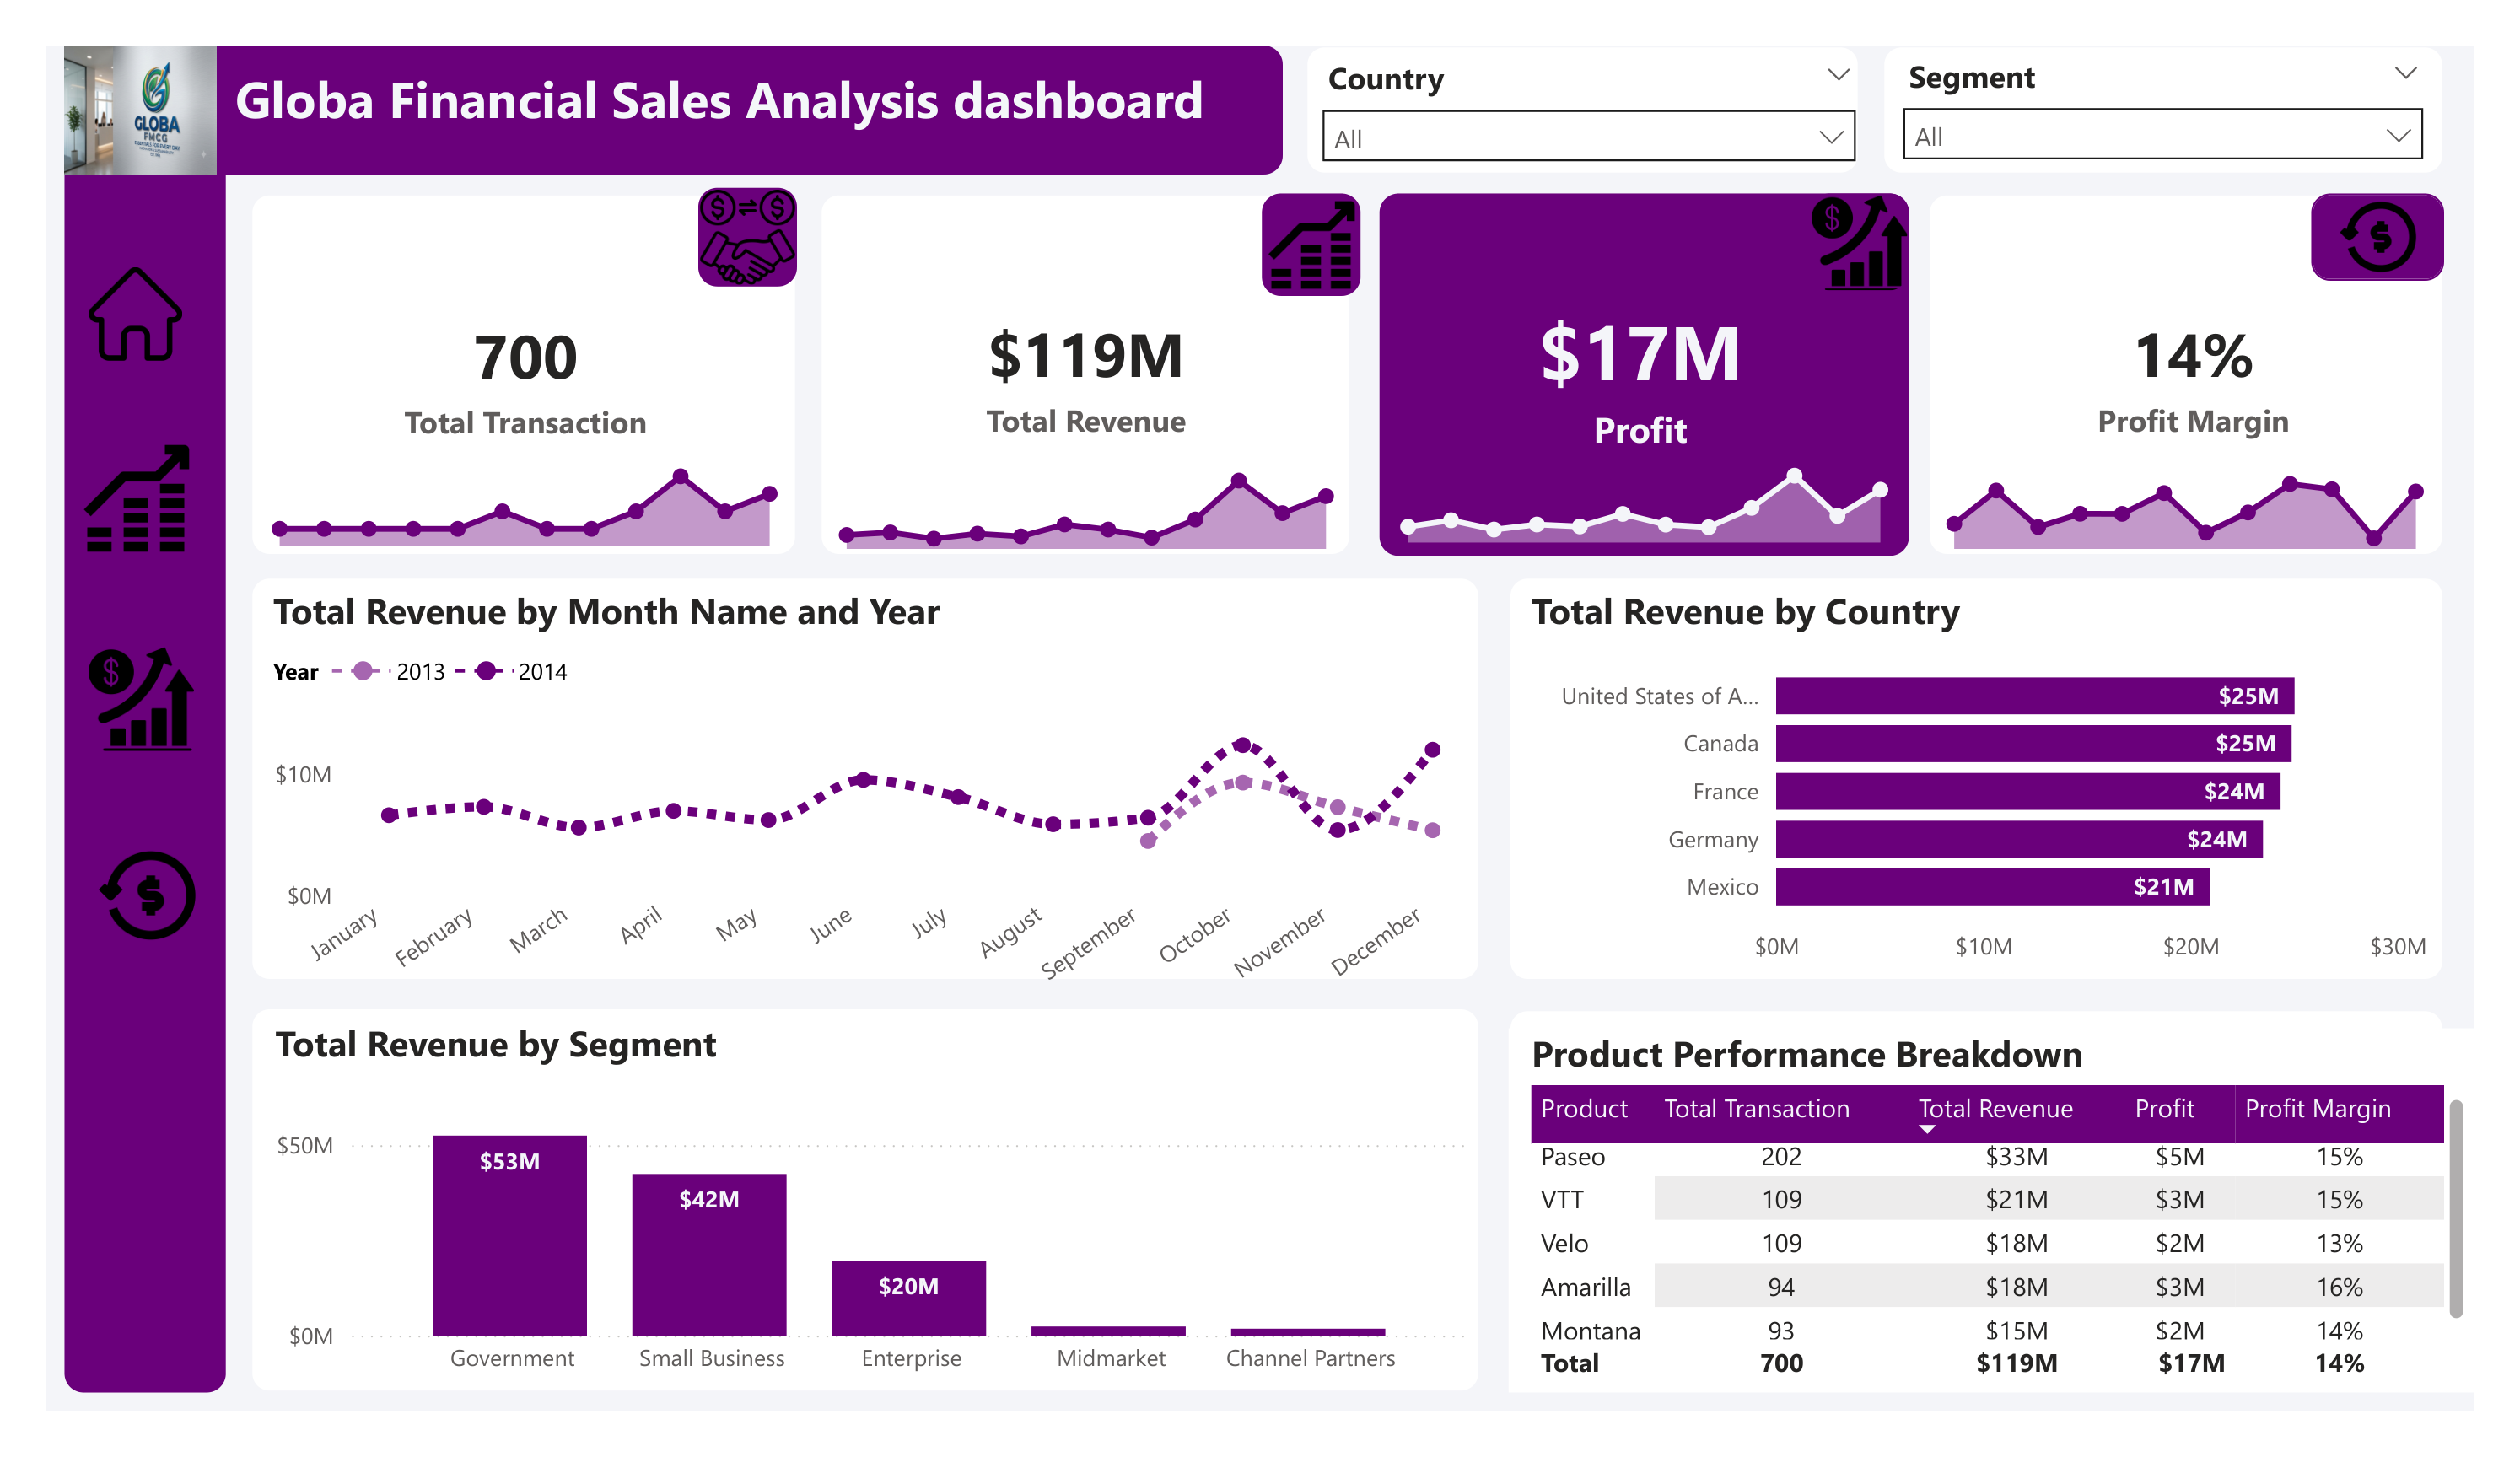

What the dashboard file says about the page in this screenshot:
{"tool":"powerbi","page":{"name":"Page 1","canvas":[1280,720],"ordinal":0},"visuals":[{"type":"textbox","box":[10.1,0,641.9,68],"z":0},{"type":"textbox","box":[10.1,0,85.3,709.9],"z":1000},{"type":"textbox","box":[108.4,78.1,287.7,190.8],"z":2000},{"type":"textbox","box":[702.7,78.1,279,190.8],"z":3000},{"type":"textbox","box":[991.8,78.1,271.8,190.8],"z":4000},{"type":"textbox","box":[407.7,78.1,280.5,190.8],"z":5000},{"type":"textbox","box":[663.6,0,292,68],"z":6000},{"type":"textbox","box":[968.3,0,295.3,67.6],"z":7000},{"type":"textbox","box":[108.4,280.5,647.7,212.5],"z":8000},{"type":"textbox","box":[770.6,280.5,493,212.5],"z":9000},{"type":"textbox","box":[108.4,507.5,647.7,202.4],"z":10000},{"type":"textbox","box":[770.9,507.7,493.1,202],"z":11000},{"type":"image","box":[10.1,0,79.5,68],"z":12000},{"type":"image","box":[23.1,109.9,49.2,63.6],"z":13000},{"type":"image","box":[15.9,208.2,62.2,60.7],"z":14000},{"type":"image","box":[23.1,312.3,54.9,63.6],"z":15000},{"type":"image","box":[24.6,416.4,56.4,63.6],"z":16000},{"type":"image","box":[344.1,75.2,52,52],"z":17000},{"type":"image","box":[640.7,78.4,51.8,53.2],"z":18000},{"type":"image","box":[929.6,78.1,52,52],"z":19000},{"type":"image","box":[1194.2,78.1,69.4,46.3],"z":20000},{"type":"slicer","fields":{"Values":["Dim_Location.Country"]},"box":[663.2,1.3,300.6,67.1],"z":20002},{"type":"slicer","fields":{"Values":["Dim_Segment.Segment"]},"box":[969,0,293.7,67.8],"z":20003},{"type":"card","fields":{"Values":["_Calculations.Total Transaction"]},"box":[109,78.4,288.4,191.4],"z":20004},{"type":"card","fields":{"Values":["_Calculations.Total Revenue"]},"box":[408.1,75.8,280.5,194.1],"z":20006},{"type":"card","fields":{"Values":["_Calculations.Profit"]},"box":[700.5,75.8,280.5,194.1],"z":20007},{"type":"card","fields":{"Values":["_Calculations.Profit Margin"]},"box":[991.6,75.8,280.5,194.1],"z":20008},{"type":"lineChart","fields":{"Y":["_Calculations.Total Revenue"],"Category":["Dim_Calender.Month Name"],"Series":["Dim_Calender.Year"]},"box":[109,280.5,647.3,212.7],"z":20009},{"type":"clusteredBarChart","fields":{"Y":["_Calculations.Total Revenue"],"Category":["Dim_Country.Country"]},"box":[770.9,280.5,491.8,212.7],"z":20010},{"type":"columnChart","fields":{"Category":["Dim_Segment.Segment"],"Y":["_Calculations.Total Revenue"]},"box":[109,507.7,647.3,202],"z":20011},{"type":"pivotTable","title":"Product Performance Breakdown","fields":{"Rows":["Dim_Product.Product"],"Values":["_Calculations.Total Transaction","_Calculations.Total Revenue","_Calculations.Profit","_Calculations.Profit Margin"]},"box":[770.6,517.6,508.9,192.3],"z":20012},{"type":"lineChart","fields":{"Y":["_Calculations.Total Transaction"],"Category":["Dim_Calender.Month Name"]},"box":[109,208.7,287.1,61.1],"z":20013},{"type":"lineChart","fields":{"Category":["Dim_Calender.Month Name"],"Y":["_Calculations.Total Revenue"]},"box":[408.1,208.7,280.5,61.1],"z":20014},{"type":"lineChart","fields":{"Category":["Dim_Calender.Month Name"],"Y":["_Calculations.Profit"]},"box":[704.5,207.4,276.5,61.1],"z":20015},{"type":"lineChart","fields":{"Category":["Dim_Calender.Month Name"],"Y":["_Calculations.Profit Margin"]},"box":[991.6,208.7,271.2,61.1],"z":20016}]}

Visuals, with their boxes on the page's 1280x720 design canvas (x1, y1, x2, y2). These are canvas units, not pixel positions in the 2520x1457 screenshot, which may show the page scaled, cropped or inside an application window:
textbox: select_region(10, 0, 652, 68)
textbox: select_region(10, 0, 95, 710)
textbox: select_region(108, 78, 396, 269)
textbox: select_region(703, 78, 982, 269)
textbox: select_region(992, 78, 1264, 269)
textbox: select_region(408, 78, 688, 269)
textbox: select_region(664, 0, 956, 68)
textbox: select_region(968, 0, 1264, 68)
textbox: select_region(108, 280, 756, 493)
textbox: select_region(771, 280, 1264, 493)
textbox: select_region(108, 508, 756, 710)
textbox: select_region(771, 508, 1264, 710)
image: select_region(10, 0, 90, 68)
image: select_region(23, 110, 72, 174)
image: select_region(16, 208, 78, 269)
image: select_region(23, 312, 78, 376)
image: select_region(25, 416, 81, 480)
image: select_region(344, 75, 396, 127)
image: select_region(641, 78, 692, 132)
image: select_region(930, 78, 982, 130)
image: select_region(1194, 78, 1264, 124)
slicer - Dim_Location.Country: select_region(663, 1, 964, 68)
slicer - Dim_Segment.Segment: select_region(969, 0, 1263, 68)
card - _Calculations.Total Transaction: select_region(109, 78, 397, 270)
card - _Calculations.Total Revenue: select_region(408, 76, 689, 270)
card - _Calculations.Profit: select_region(700, 76, 981, 270)
card - _Calculations.Profit Margin: select_region(992, 76, 1272, 270)
lineChart - _Calculations.Total Revenue x Dim_Calender.Month Name: select_region(109, 280, 756, 493)
clusteredBarChart - _Calculations.Total Revenue x Dim_Country.Country: select_region(771, 280, 1263, 493)
columnChart - Dim_Segment.Segment x _Calculations.Total Revenue: select_region(109, 508, 756, 710)
"Product Performance Breakdown" pivotTable: select_region(771, 518, 1280, 710)
lineChart - _Calculations.Total Transaction x Dim_Calender.Month Name: select_region(109, 209, 396, 270)
lineChart - Dim_Calender.Month Name x _Calculations.Total Revenue: select_region(408, 209, 689, 270)
lineChart - Dim_Calender.Month Name x _Calculations.Profit: select_region(704, 207, 981, 268)
lineChart - Dim_Calender.Month Name x _Calculations.Profit Margin: select_region(992, 209, 1263, 270)
